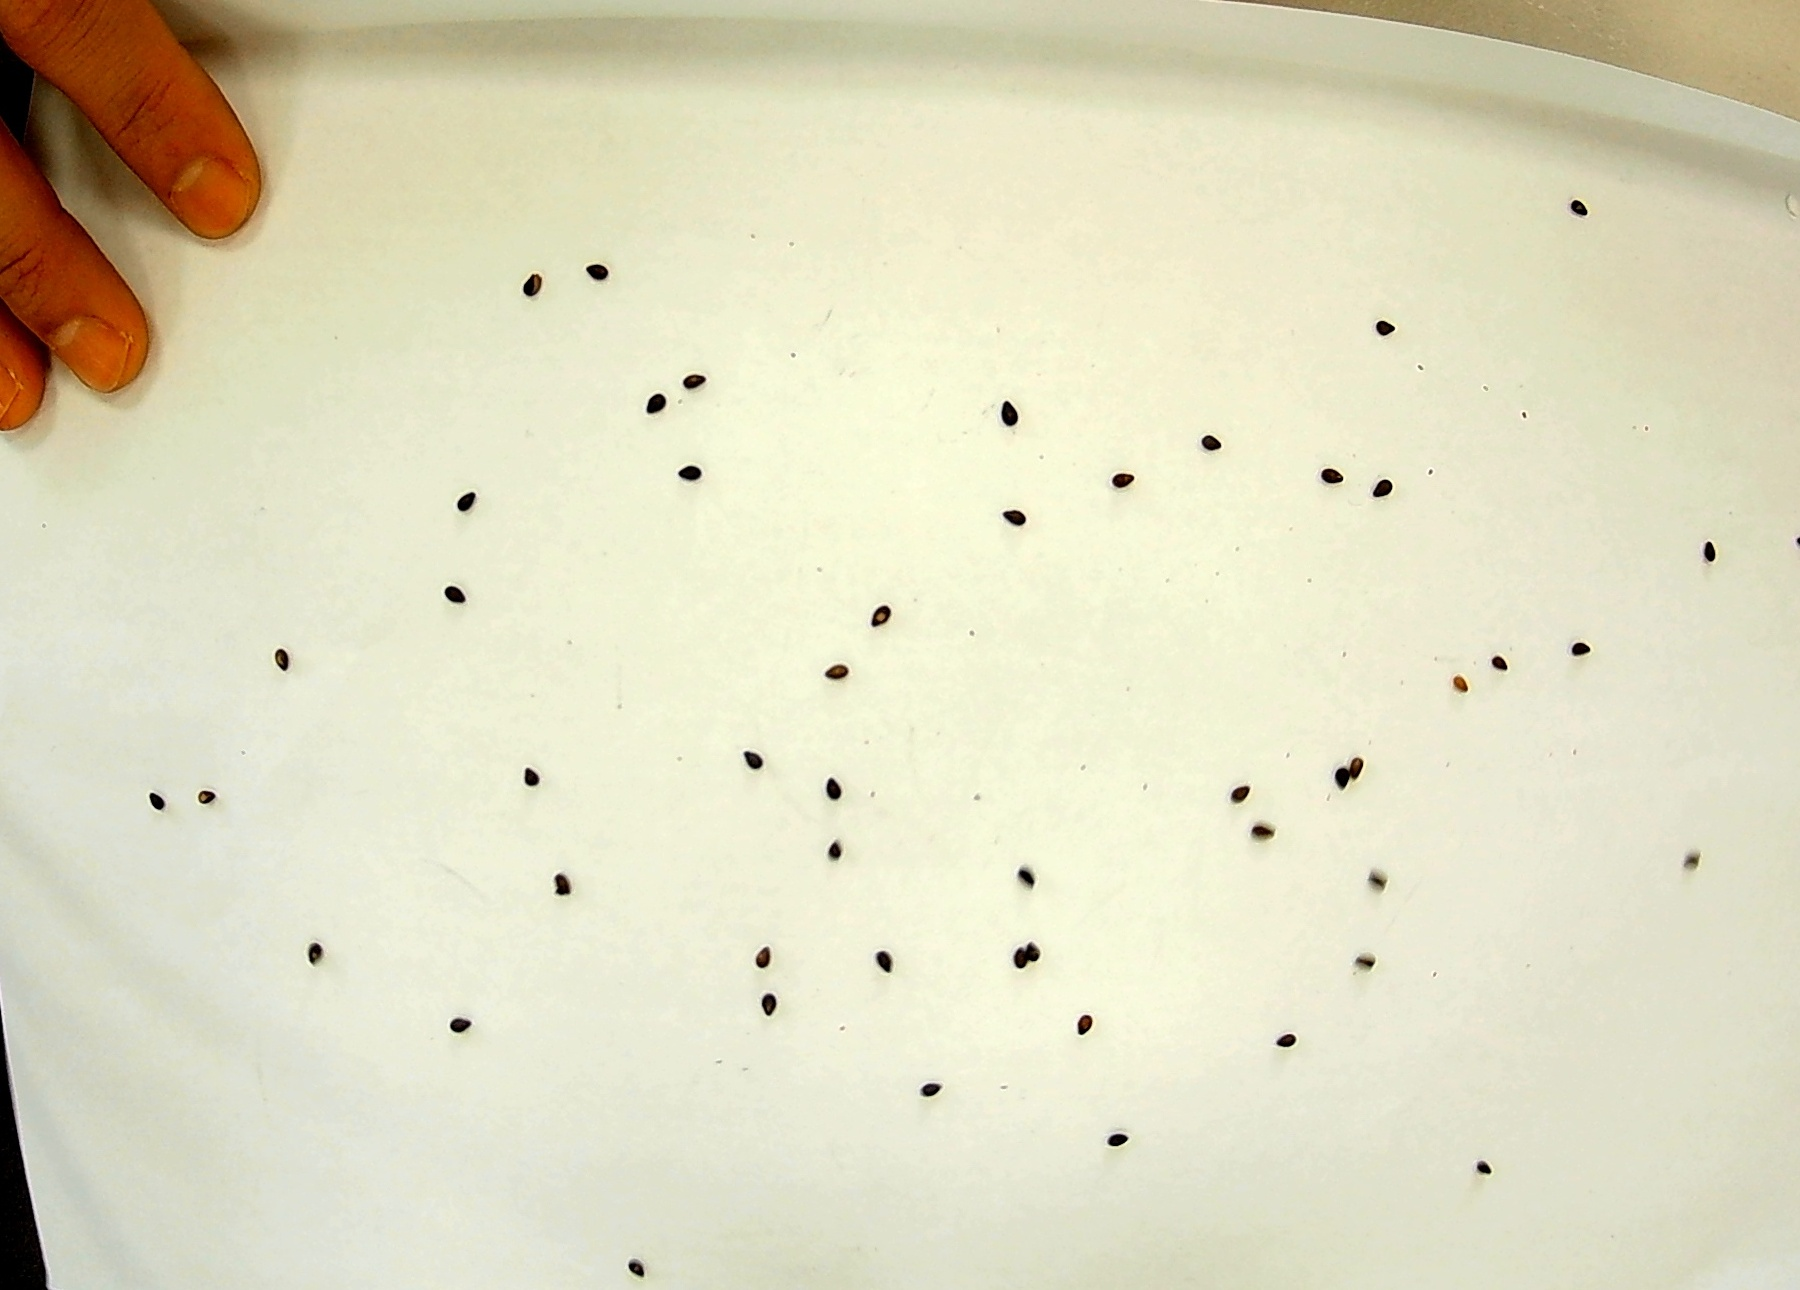sesami: (1360, 306, 1400, 352), (1427, 660, 1467, 706), (1347, 934, 1386, 980), (1026, 937, 1065, 983), (539, 861, 578, 907), (813, 778, 853, 822), (578, 251, 615, 297), (511, 258, 548, 304), (674, 356, 712, 402), (632, 378, 670, 424), (664, 451, 702, 497), (985, 396, 1023, 443), (993, 491, 1031, 537), (1100, 455, 1137, 501), (1189, 427, 1227, 473), (1560, 173, 1598, 219), (1700, 528, 1737, 574), (1553, 628, 1591, 674), (1485, 644, 1522, 690), (1370, 469, 1408, 515), (1305, 451, 1342, 497), (1347, 747, 1384, 793), (1316, 746, 1353, 792), (1213, 768, 1250, 814), (1242, 807, 1280, 853), (1355, 853, 1393, 899), (1461, 1145, 1499, 1191), (1274, 1019, 1312, 1065), (1104, 1109, 1141, 1155), (1069, 1015, 1107, 1061), (998, 933, 1035, 979), (1023, 845, 1060, 891), (865, 934, 903, 980), (819, 826, 857, 873), (815, 641, 853, 687), (869, 596, 907, 642), (731, 734, 769, 780), (745, 937, 783, 983), (741, 988, 779, 1035), (904, 1074, 942, 1120), (614, 1243, 652, 1289), (441, 1007, 479, 1053), (518, 764, 555, 810), (438, 568, 476, 614), (438, 476, 476, 522), (267, 631, 304, 677), (191, 769, 229, 815), (133, 773, 170, 820), (304, 927, 342, 973)
